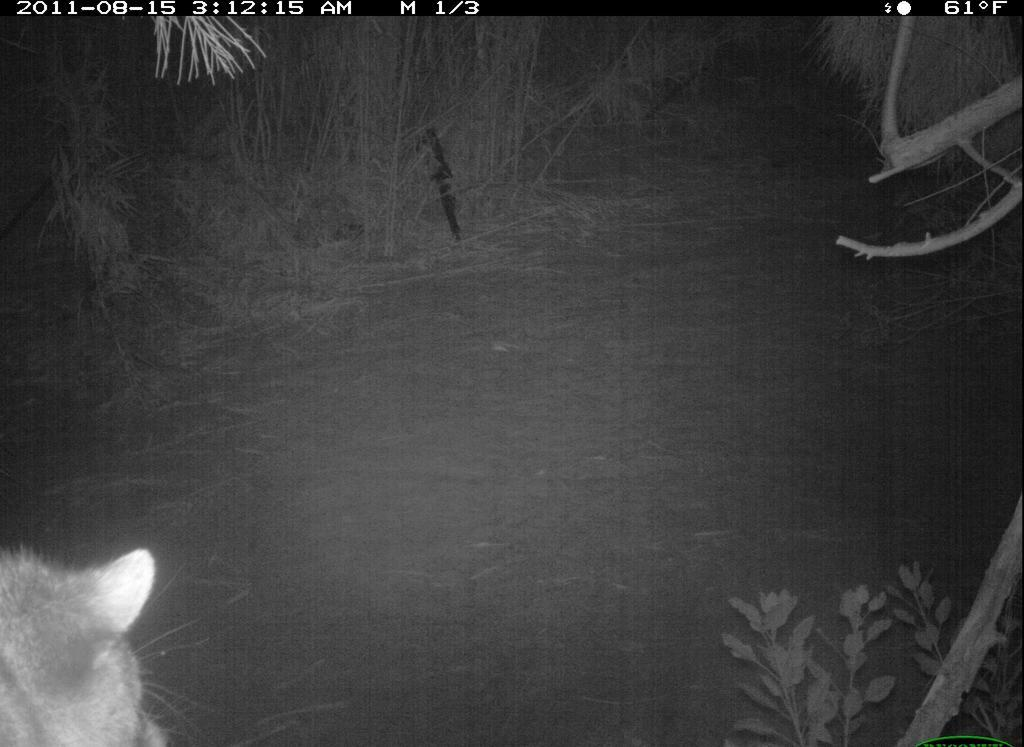raccoon: (7, 514, 212, 747)
